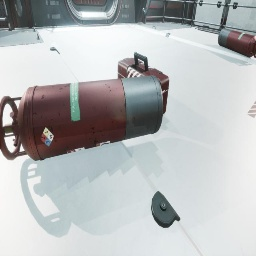FirstAidBox ,: (118, 52, 169, 114)
NitrogenTank ,: (0, 75, 163, 161), (218, 28, 256, 58)
